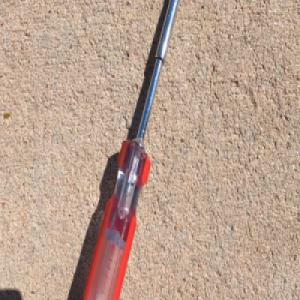Screwdriver: (84, 0, 181, 300)
